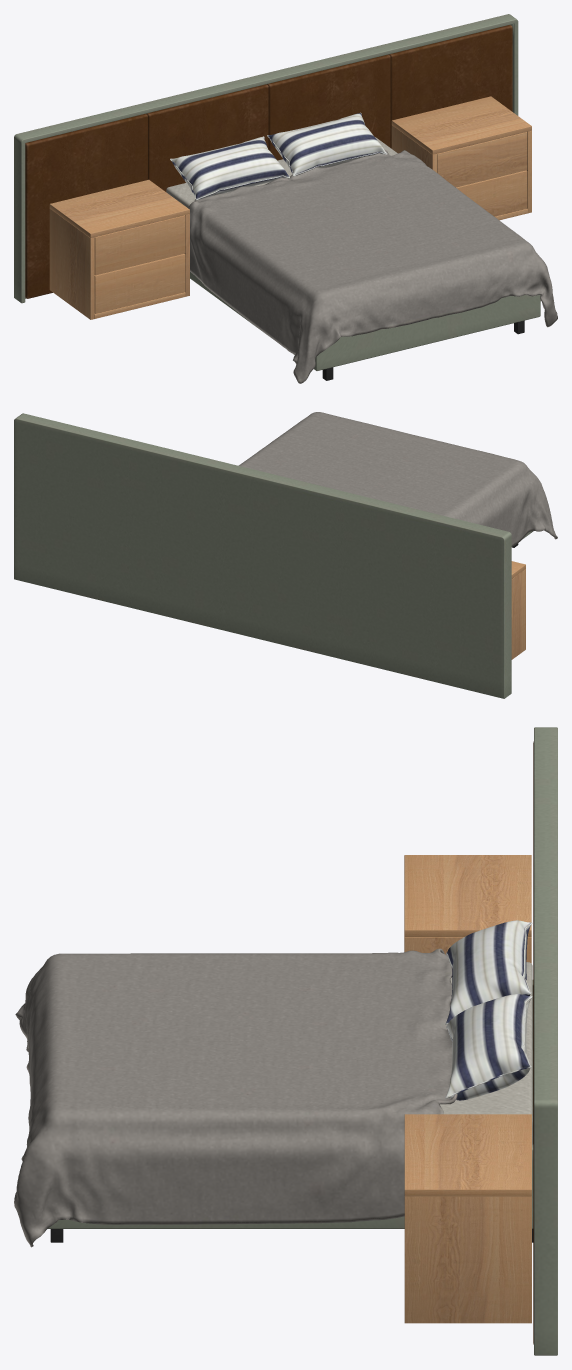
File: bed_model_002.glb
3 views of the same model, one above another, from view 1: azimuth 30°, elevation 25°; view 2: azimuth 150°, elevation 25°; view 3: azimuth 270°, elevation 25° (orthographic). The views are drawn at different scales.
Visible parts, largest first — view 1: Bed, BedSideTable; view 2: Bed, BedSideTable; view 3: Bed, BedSideTable.
Part boxes in pixels (box(x1,y1,x2,y2)): Bed: box(14, 14, 557, 383); BedSideTable: box(49, 96, 531, 319); Bed: box(14, 412, 557, 698); BedSideTable: box(511, 561, 525, 659); Bed: box(14, 727, 557, 1355); BedSideTable: box(404, 855, 531, 1323).
Size of the model in its own units: 3.5 by 1.1 by 2.14.
Materials: 2 (2 with a texture image).
